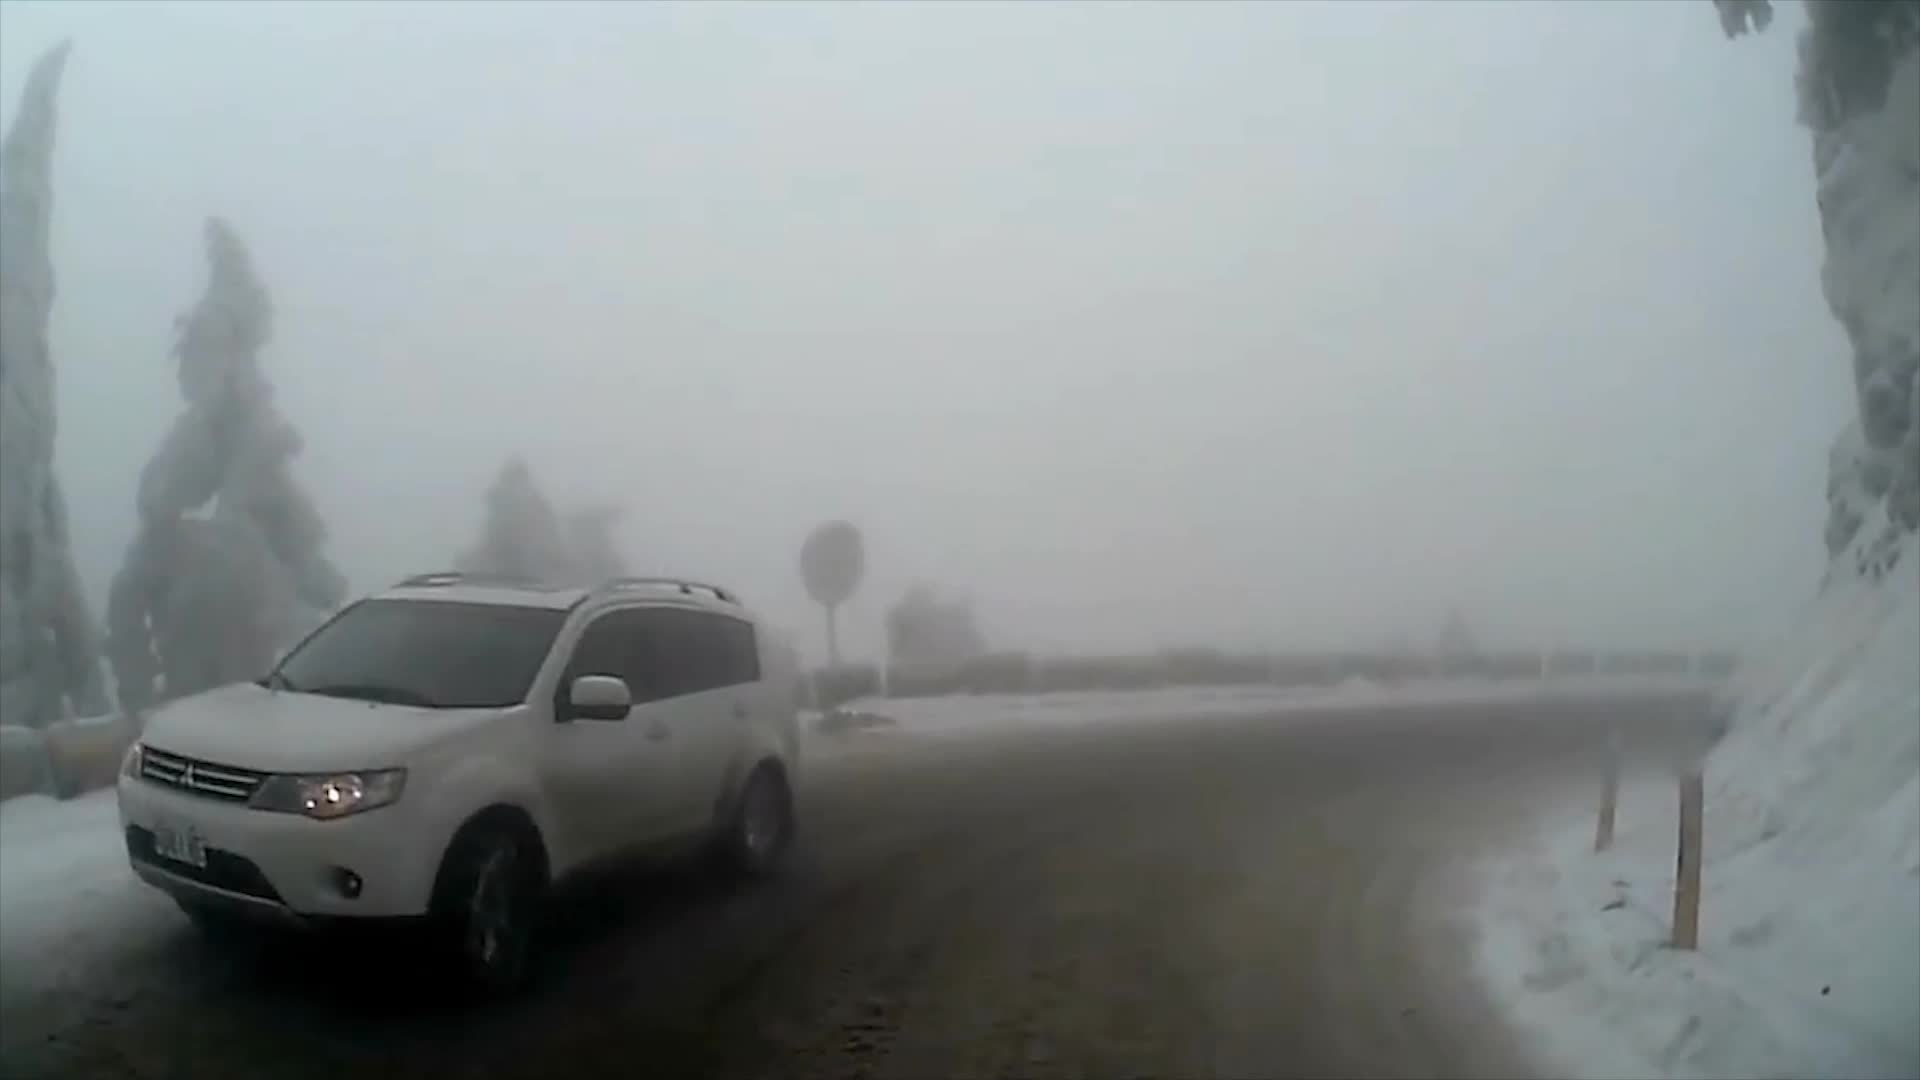vehicle: (112, 570, 800, 977)
